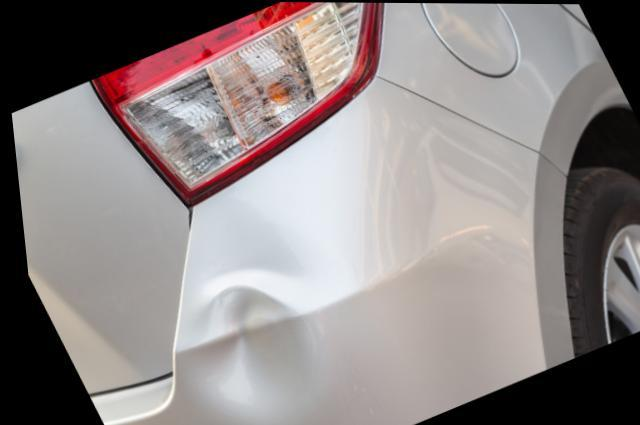dent: (183, 284, 309, 421)
